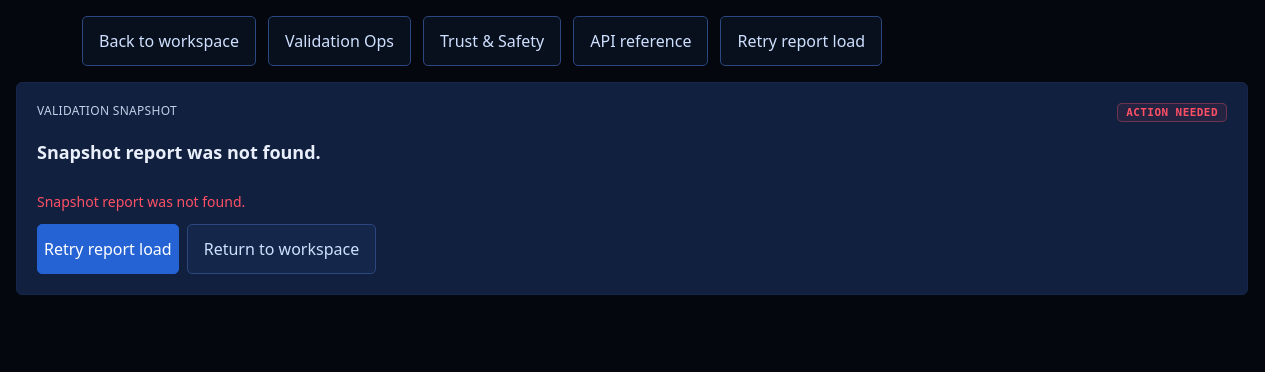
Test case: SnapshotReportView › shows a retryable error state when the report API fails
Expected: the number of headings "Snapshot report was not found." is 2, [37,138,321,166]; [37,192,245,212]
Click the button "Retry report load" next to "API reference": x=801, y=41 [720,16,882,66]
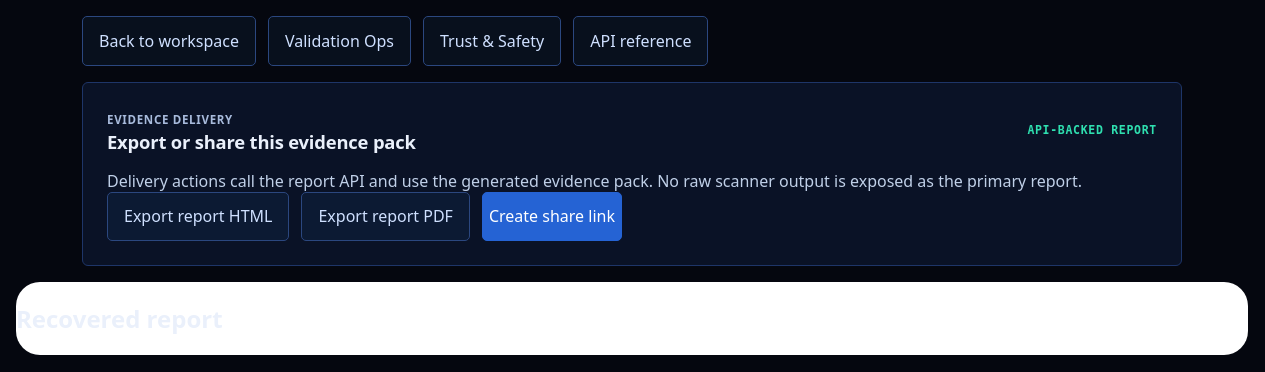
Now the heading "Recovered report" is shown, box [16,302,223,335]
